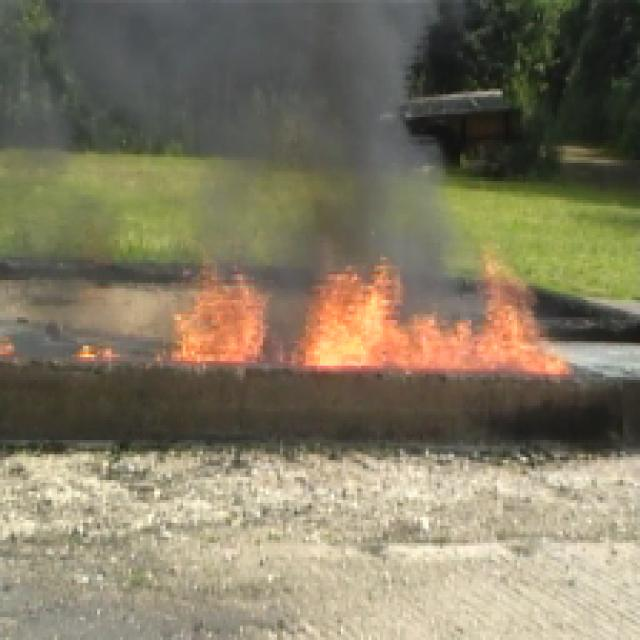fire: (171, 277, 537, 379)
smoke: (107, 0, 438, 266)
